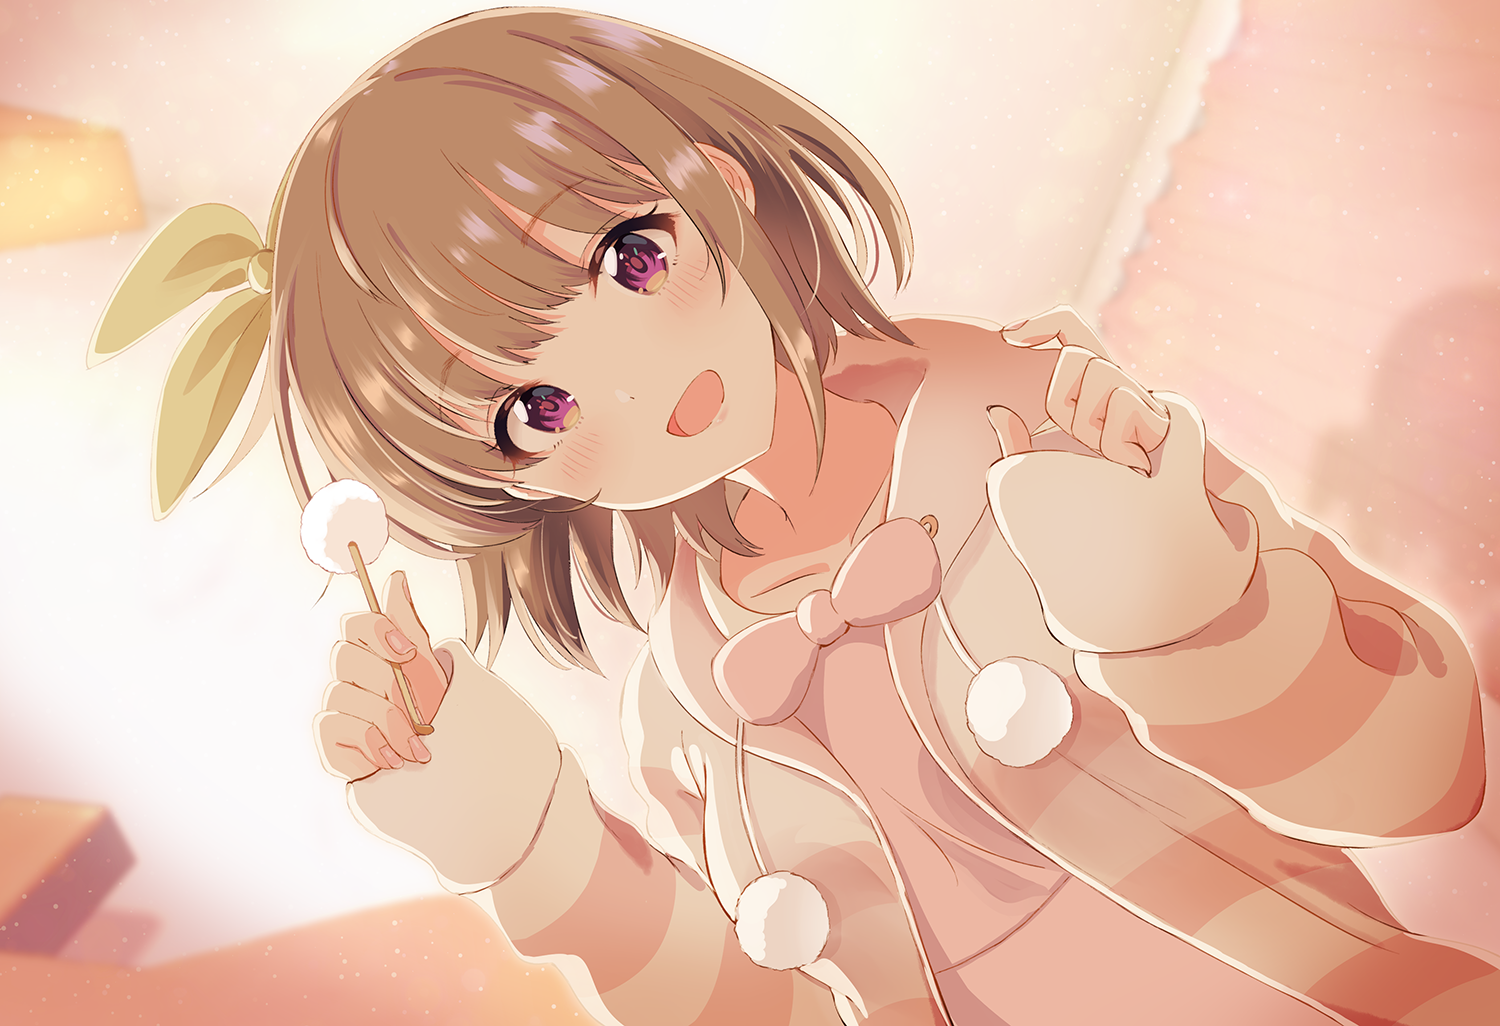纸片人正脸: (269, 13, 846, 540)
